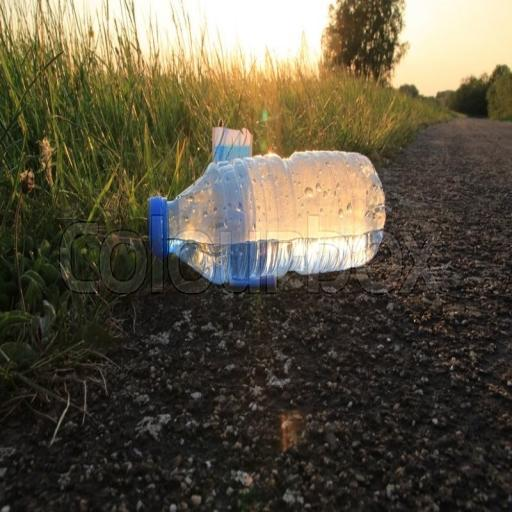bottle: (142, 143, 398, 292)
